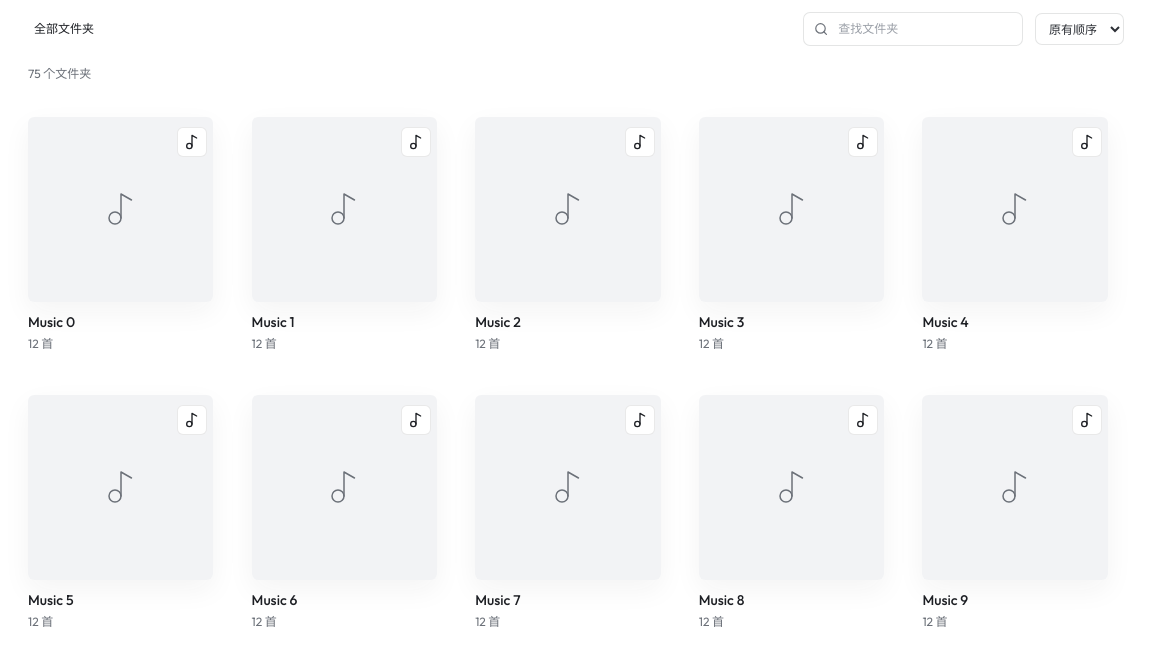
Test: FolderWall › bounds each page to sixty cards and searches beyond the current page
Type "Music 74" into the search field labelled "查找文件夹".
click(924, 29); type("Music 74")  # box [836,20,1012,38]
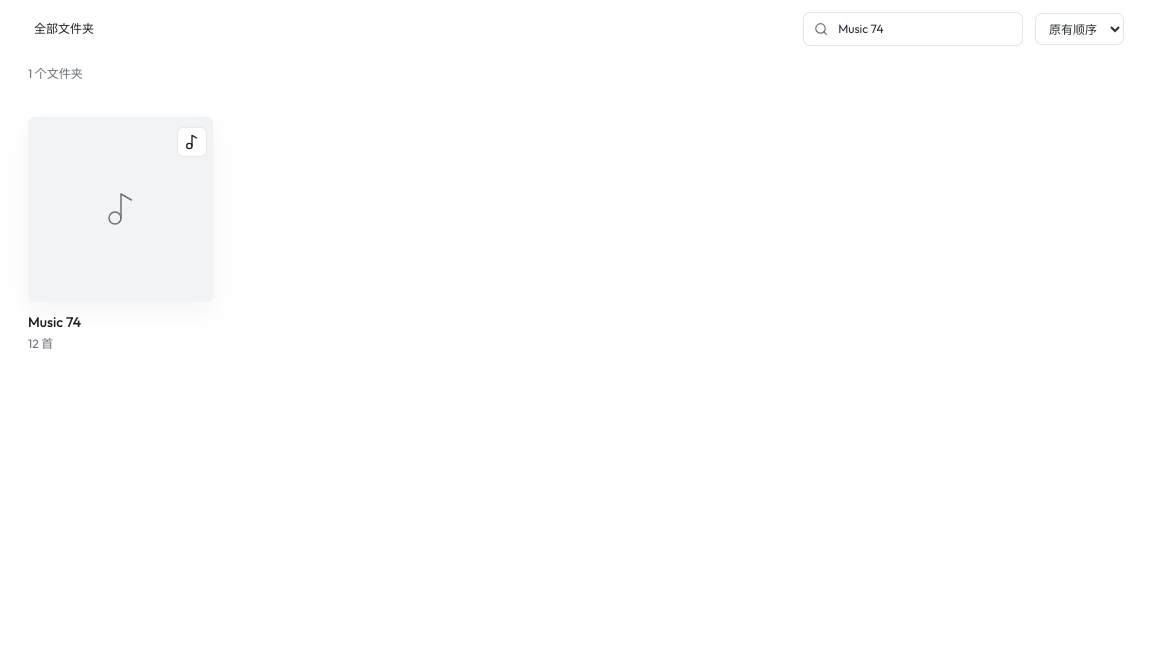
Expected: the number of elements with class "folder-wall-card" is 1, [28,100,230,355]
